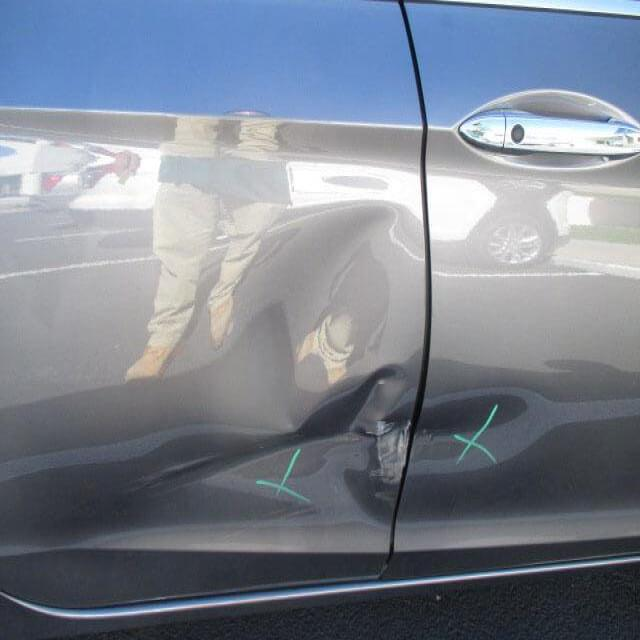dent: (110, 190, 429, 530), (406, 379, 564, 480)
